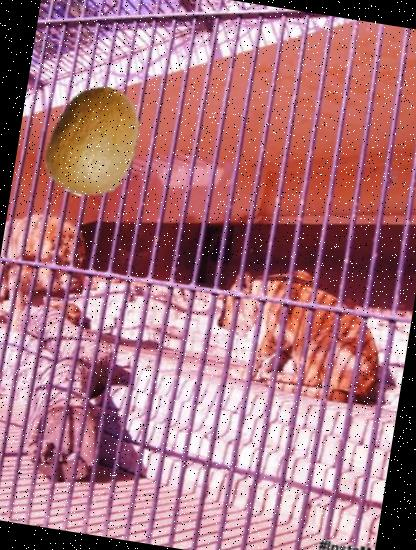Kiwi: (30, 78, 160, 207)
